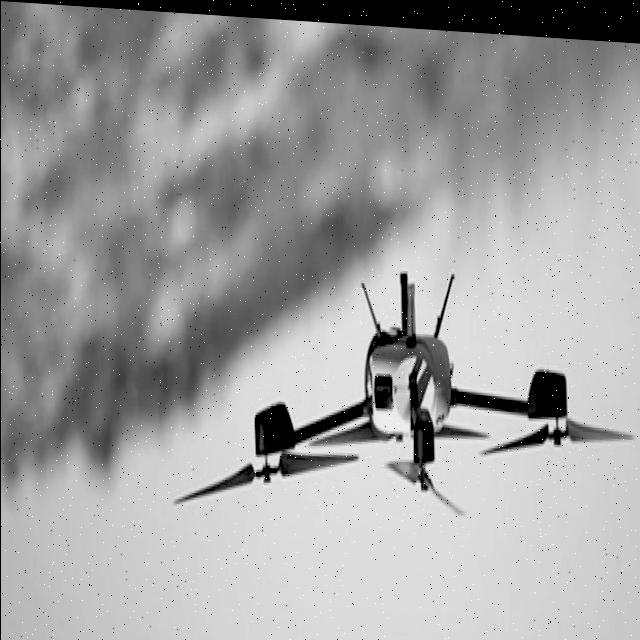drone: (155, 246, 638, 571)
